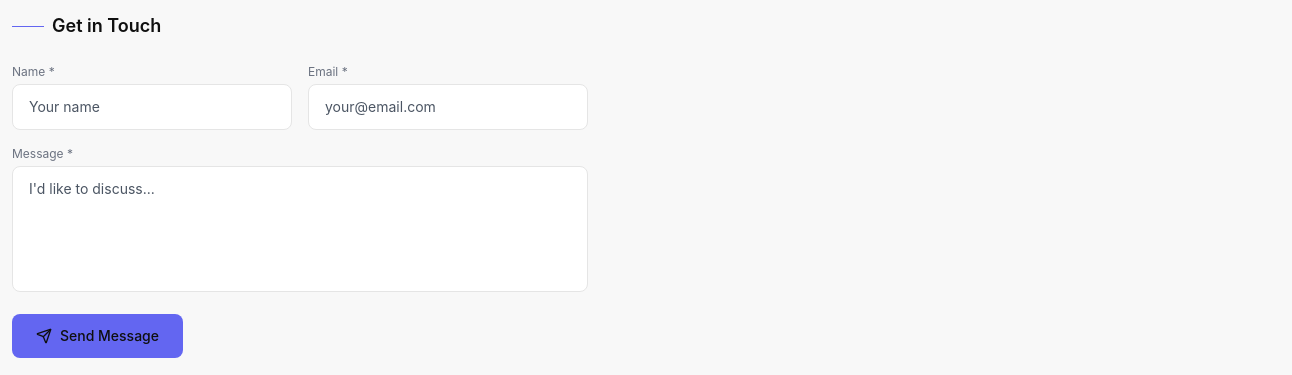
ContactSection › shows success message after sending
Type "John Recruiter" into the field with placeholder "Your name" at (152, 107), box [12,84,292,130]
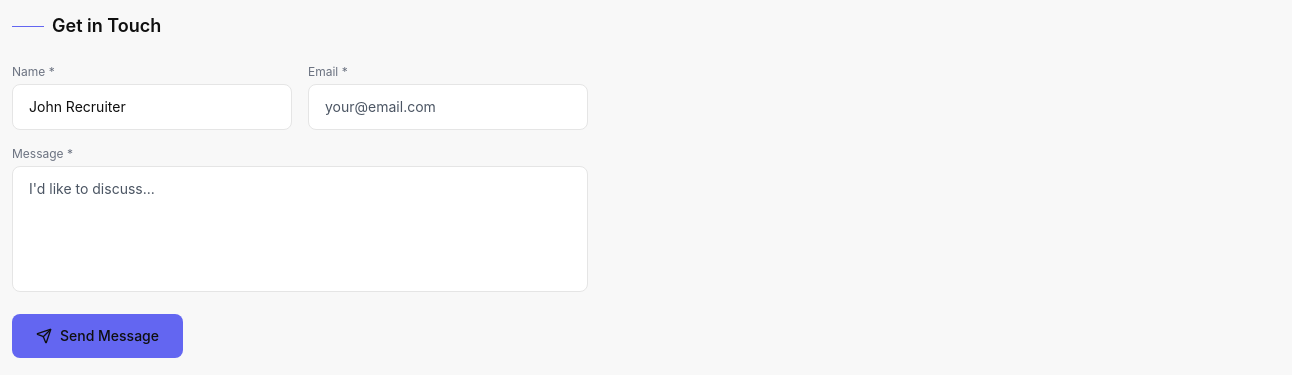
Type "john@company.com" into the field with placeholder "your@email.com" at (448, 107), box [308,84,588,130]
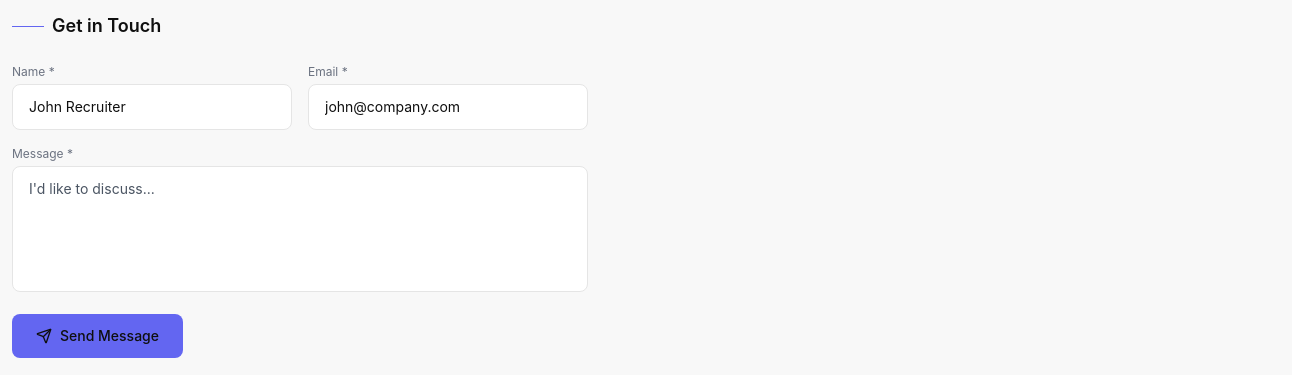
Type "I would like to discuss an opportunity" into the text box with placeholder "I'd like to discuss..." at (300, 229), box [12,166,588,292]
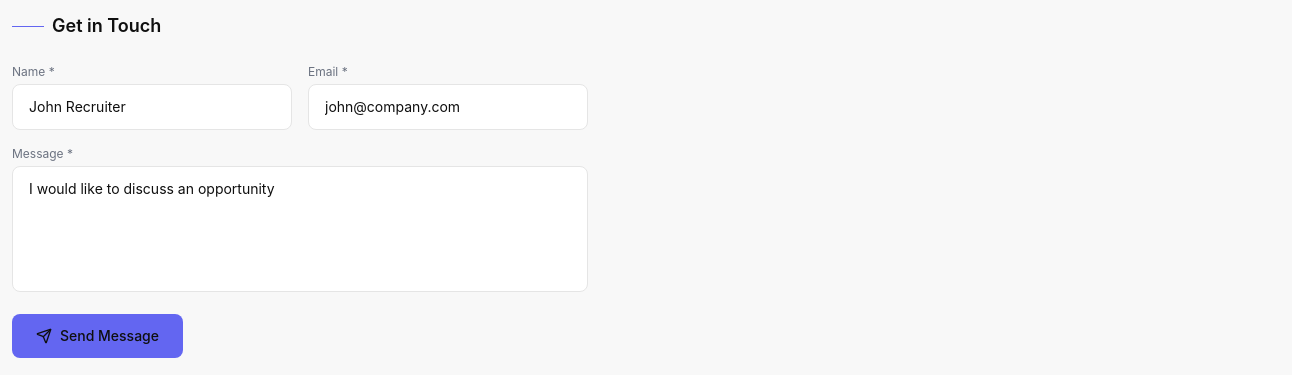
Click the button "Send Message" at (98, 336), box [12,314,183,358]
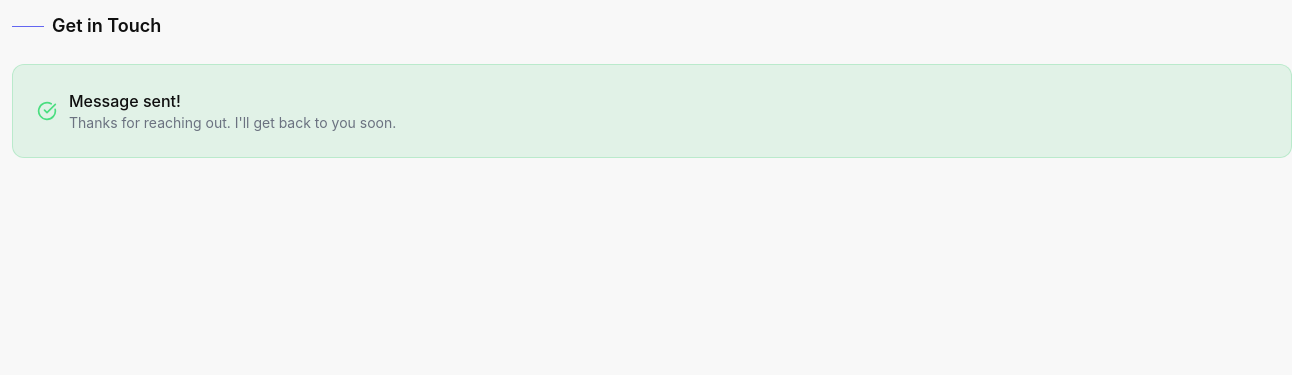
Expected: the text "Message sent!" is shown, [69,91,181,111]
